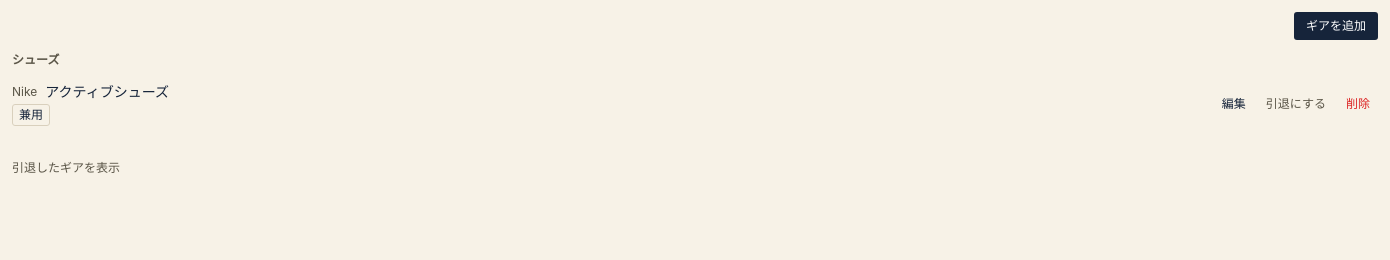
GearList — 引退ギア › 「引退したギアを表示」クリック後: 引退ギアが表示される
What coordinates should you click on to do the following:
click the button "引退したギアを表示"
I would click on:
 (66, 168)
Its box is x1=12 y1=160 x2=120 y2=176.
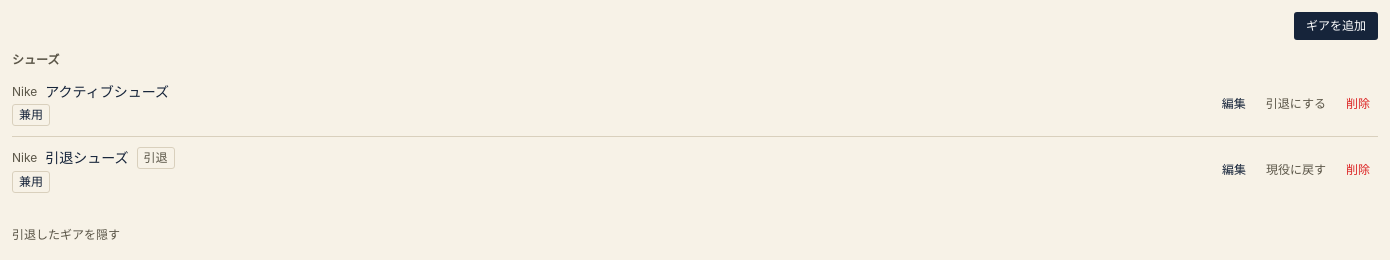
Result: the text "引退シューズ" is shown at x1=45 y1=148 x2=129 y2=168
Result: the button "引退したギアを隠す" is shown at x1=12 y1=227 x2=120 y2=243
